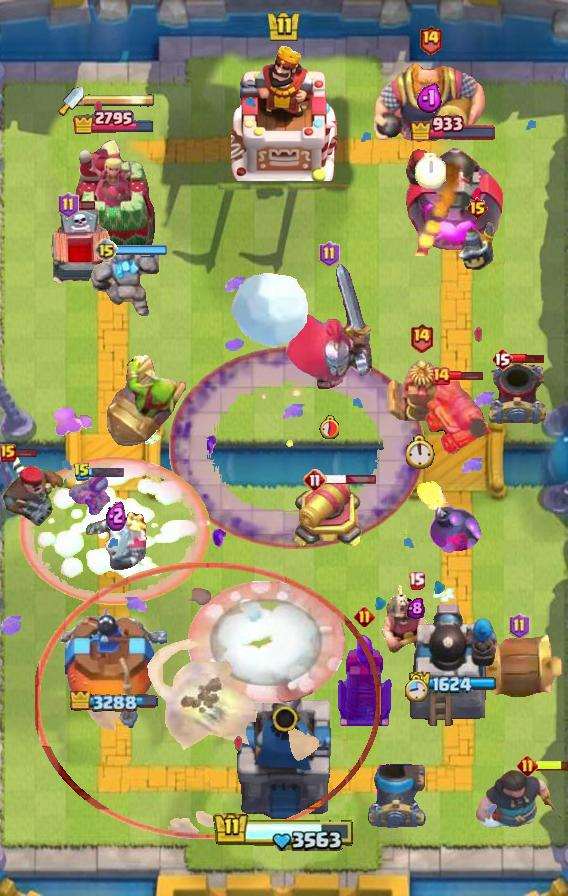baby-dragon: (411, 479, 483, 553)
bandit: (380, 583, 451, 655)
bar: (70, 138, 158, 256)
clock: (213, 811, 355, 852)
electro-spirit: (416, 83, 444, 113), (105, 499, 126, 531), (407, 597, 425, 619)
elixir: (414, 153, 445, 189), (406, 434, 436, 469), (403, 674, 428, 702), (319, 415, 339, 439)
elixir-golem-mid: (45, 206, 115, 292)
emote: (325, 474, 377, 485), (116, 245, 168, 255), (536, 760, 568, 773), (510, 353, 546, 364), (89, 467, 125, 478), (449, 371, 484, 382), (2, 446, 37, 457), (76, 201, 95, 212)
giant-skeleton: (372, 58, 488, 148)
giant-snowball: (69, 473, 117, 517)
goblin-brawler: (386, 356, 456, 424)
ice-spirit-evolution-symbol: (334, 632, 394, 728)
king-tower: (231, 43, 337, 181), (232, 686, 336, 826)
king-tower-bar: (84, 93, 156, 107)
mortar-evolution: (83, 509, 149, 575)
musketeer: (486, 360, 548, 428), (366, 764, 426, 828)
phoenix-big: (18, 455, 212, 606)
phoenix-small: (0, 454, 66, 528)
princess: (456, 220, 498, 274)
queen-tower: (61, 603, 167, 731)
rocket: (169, 346, 425, 550)
royal-ghost: (35, 561, 381, 839)
royal-giant-evolution: (424, 381, 492, 455)
royal-hog: (476, 768, 568, 830)
royal-recruit: (293, 477, 365, 551)
selected: (410, 112, 499, 140), (72, 108, 156, 134), (70, 690, 158, 714), (409, 671, 497, 694)
text: (417, 25, 442, 56), (410, 322, 435, 353), (94, 238, 118, 262), (303, 468, 327, 492), (509, 613, 531, 639), (466, 196, 489, 220), (57, 192, 78, 218), (320, 241, 341, 267), (491, 347, 513, 371), (353, 605, 375, 627), (517, 756, 538, 777), (431, 366, 451, 386), (73, 462, 91, 482), (407, 570, 424, 589), (0, 444, 16, 462)
the-log: (474, 633, 564, 701)
tower-bar: (404, 138, 505, 256), (408, 599, 498, 731)
valkyrie-evolution: (87, 252, 159, 322)
wall-breaker: (187, 581, 345, 703), (228, 270, 310, 350)
wall-breaker-evolution: (283, 261, 375, 395)
x-bow: (106, 355, 186, 449)
